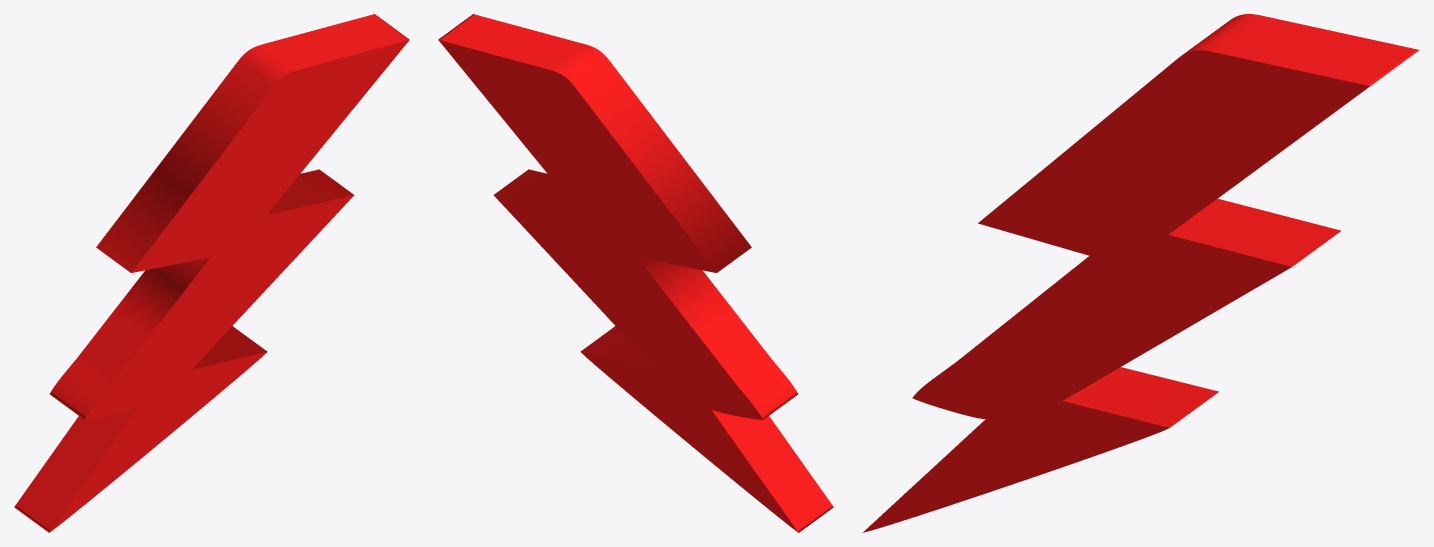
Rendered from lightning.glb.
3 views of the same model, side by side, from view 1: azimuth 30°, elevation 25°; view 2: azimuth 150°, elevation 25°; view 3: azimuth 330°, elevation 25° (orthographic). The views are drawn at different scales.
Parts seen in each view (by area): view 1: Curve_0; view 2: Curve_0; view 3: Curve_0.
Part boxes in pixels (box(x1,y1,x2,y2)): Curve_0: box(14, 14, 409, 532); Curve_0: box(438, 14, 833, 532); Curve_0: box(862, 14, 1418, 532).
Bounding box in the file's own units: 2.01 × 2.16 × 0.3393.
